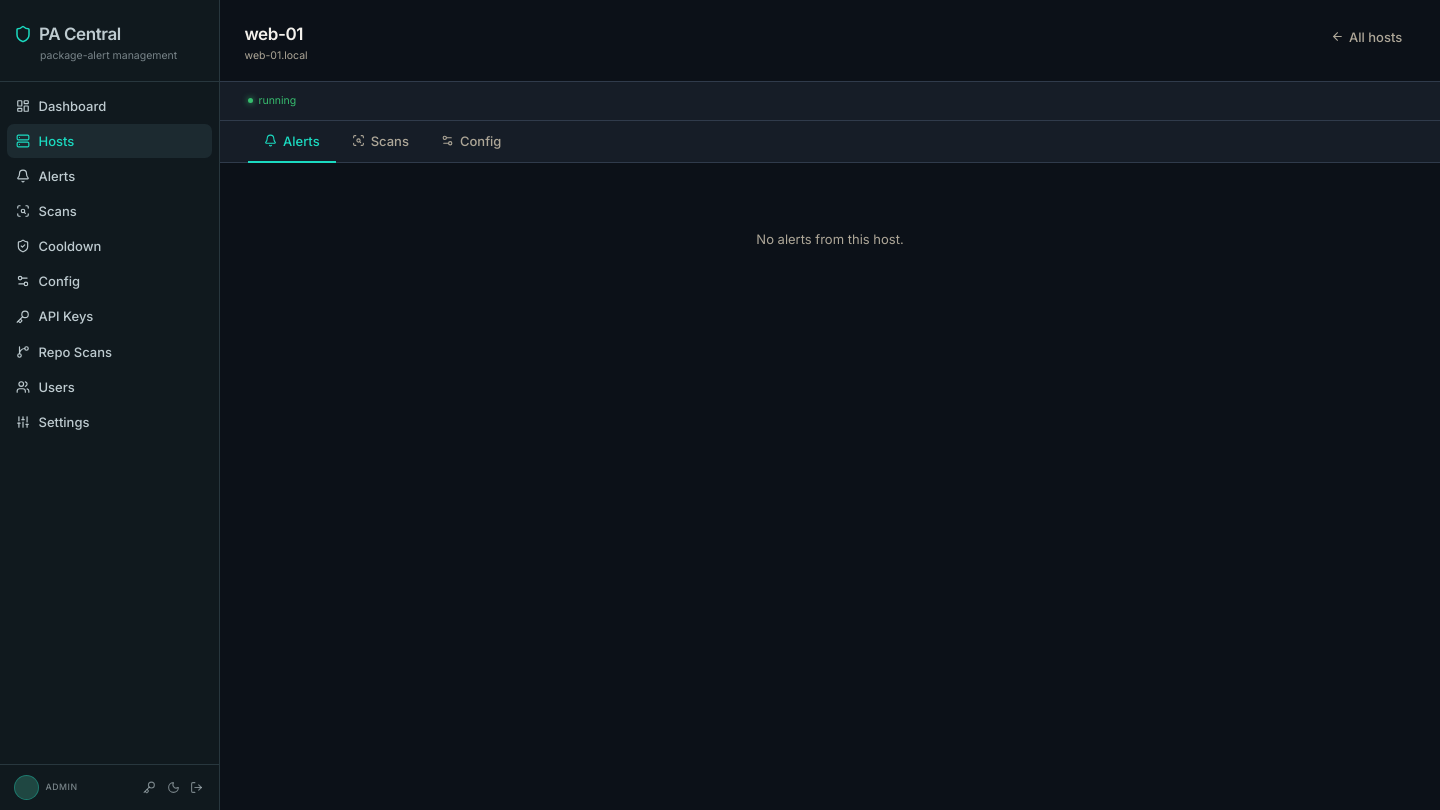
Test: host scan — scan checks › shows a not-public chip that does not read as a failure
Click the tab "Scans": (380, 142) [336,121,425,163]
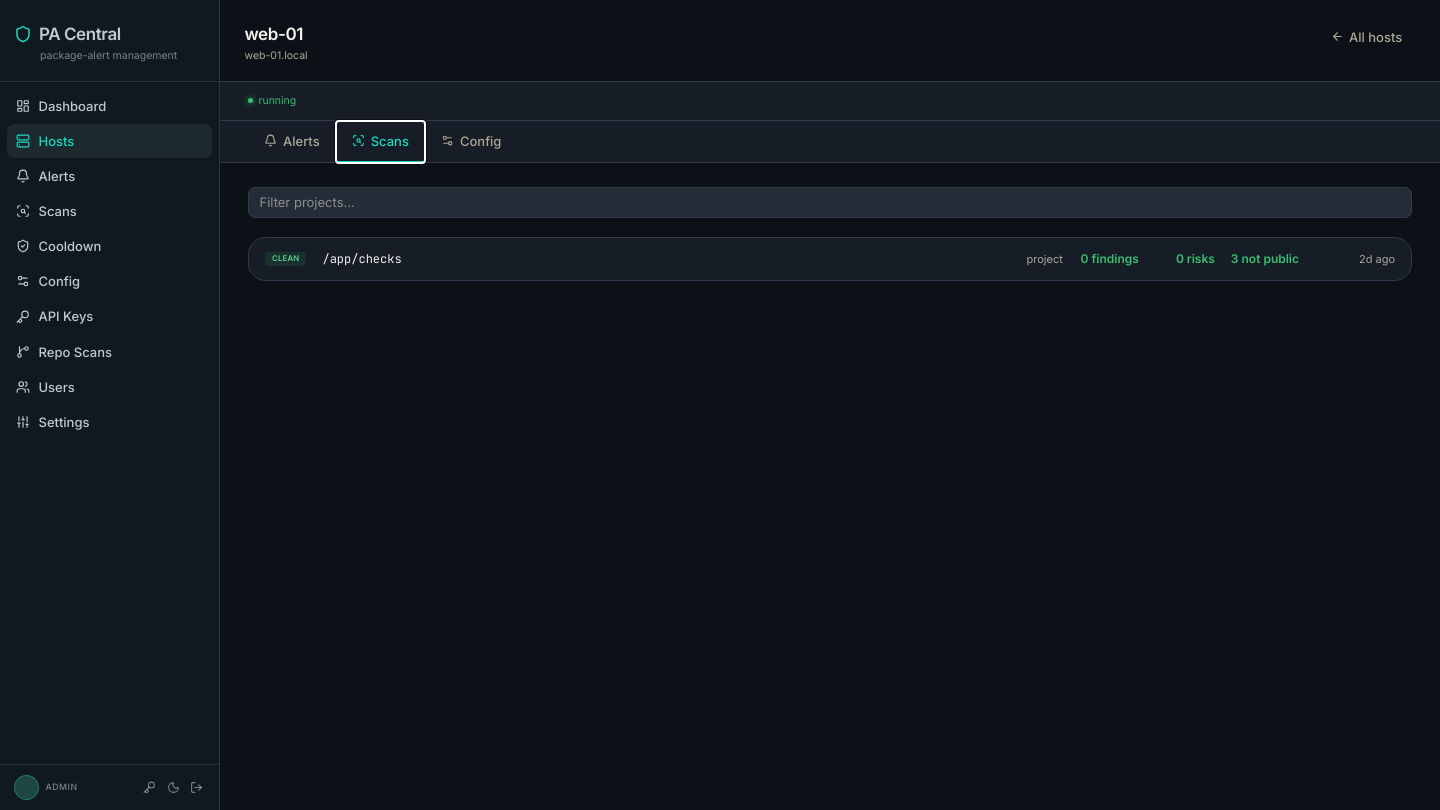
Now the text "/app/checks" is shown, box [322,251,402,267]
